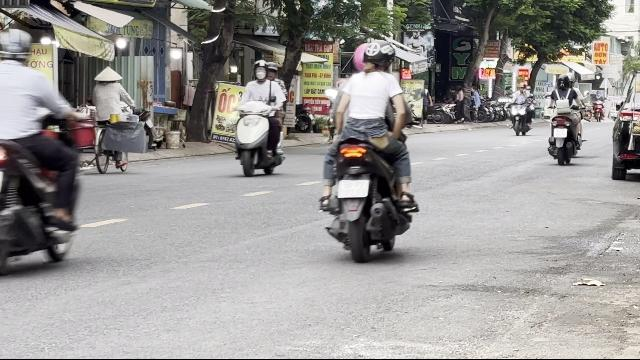helmet: (0, 27, 32, 64), (365, 40, 393, 72), (349, 41, 373, 73), (252, 60, 268, 80), (266, 61, 278, 80), (556, 73, 570, 87)
licenseplate: (337, 178, 368, 196), (553, 128, 567, 138)
motorcyclist: (316, 39, 419, 261), (0, 30, 84, 278), (229, 58, 287, 178), (546, 73, 584, 165)
